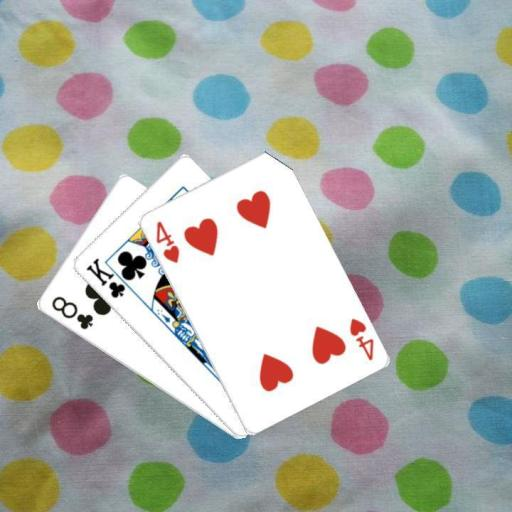card-corner: (82, 254, 136, 300), (48, 293, 94, 331), (346, 314, 374, 362), (152, 218, 180, 264)
